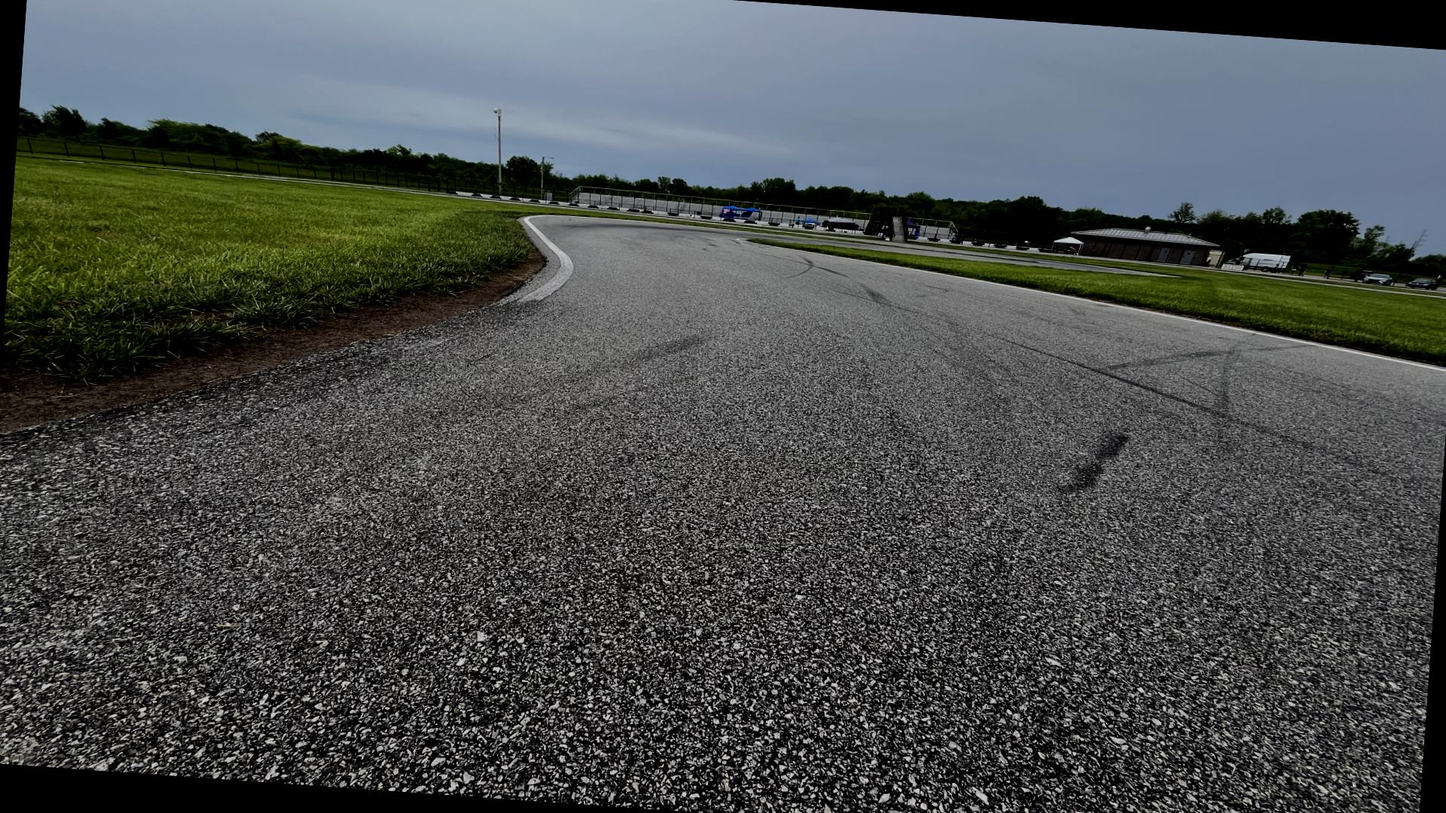white-line: (734, 239, 1445, 372), (520, 215, 664, 303), (717, 229, 826, 241), (853, 243, 908, 249)
